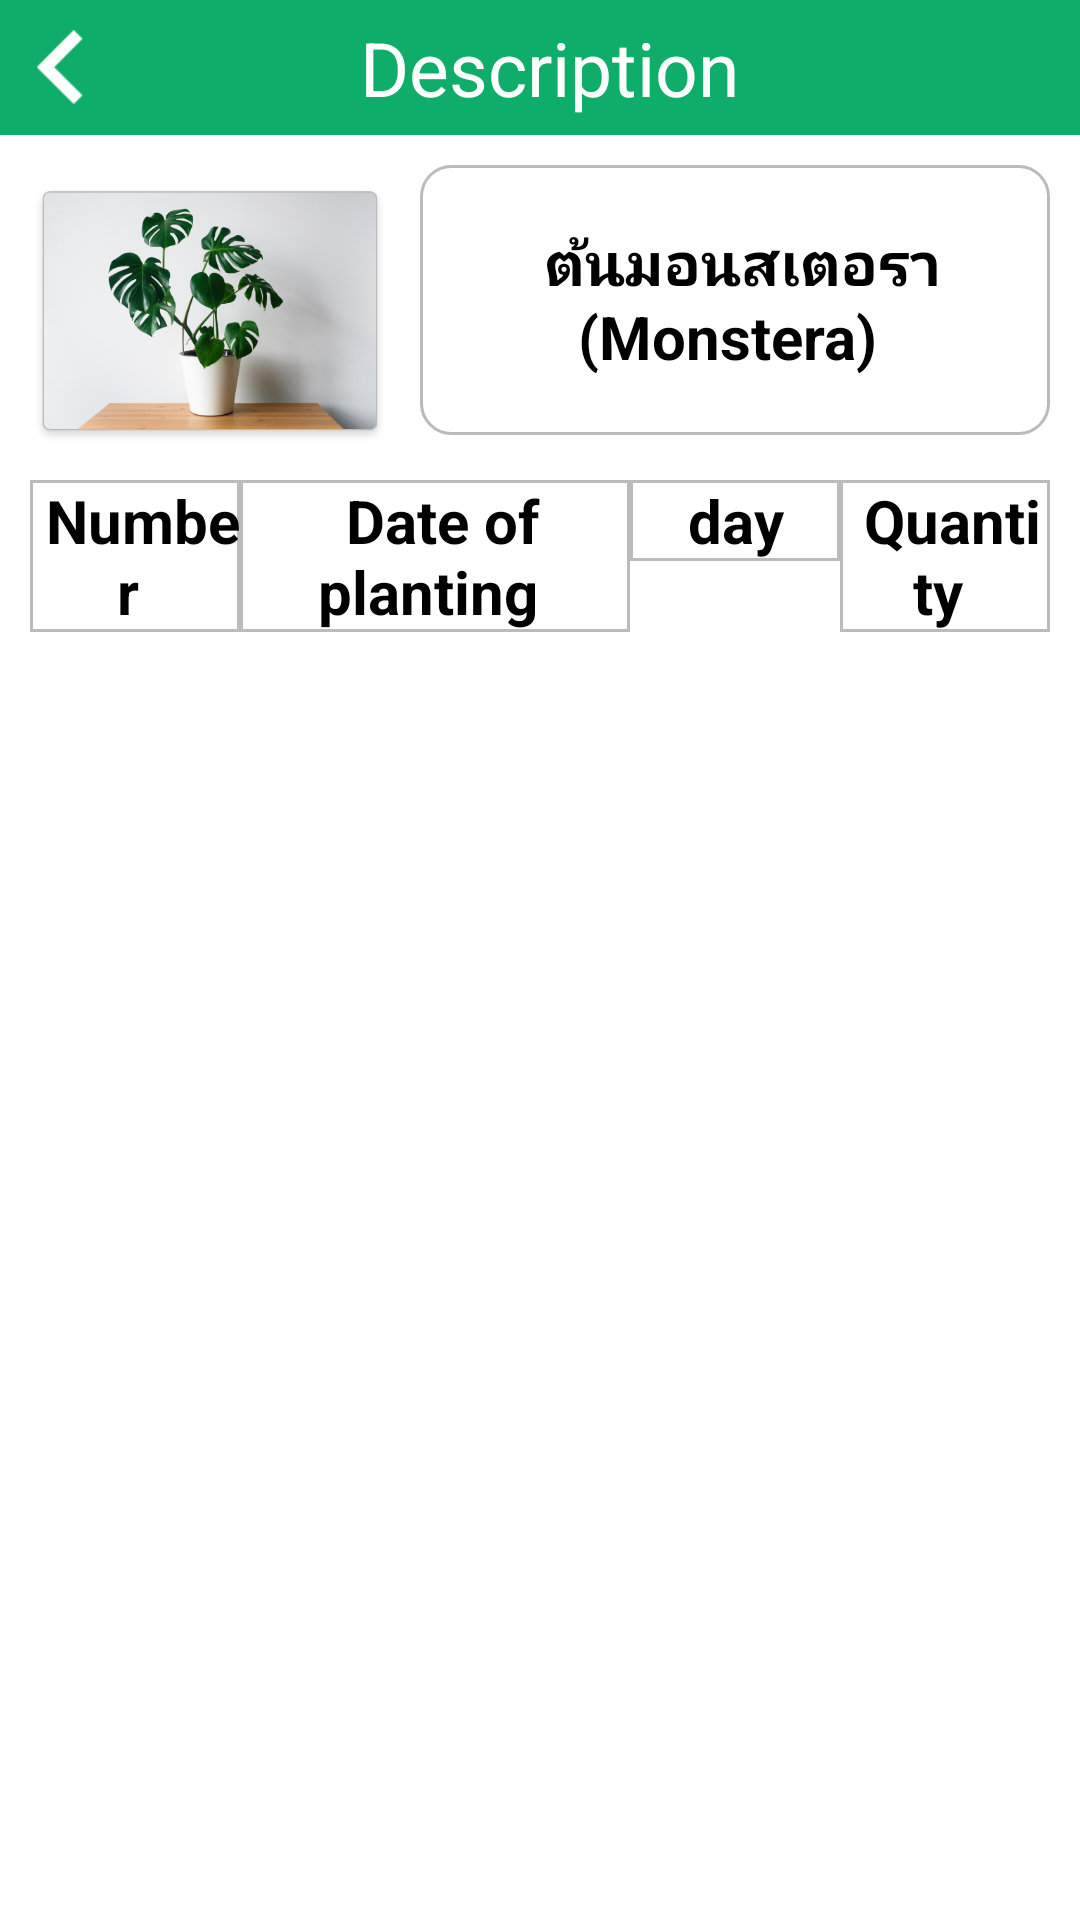

Icon click points for this 1080 × 1920 phone screenshot, format (x,y):
icbtnback: (60,67)
